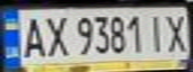1: (124, 12, 148, 53)
3: (90, 12, 112, 55)
8: (109, 12, 130, 54)
9: (72, 12, 93, 56)
A: (18, 12, 48, 60)
I: (145, 11, 169, 53)
X: (42, 12, 72, 57), (163, 10, 193, 53)
